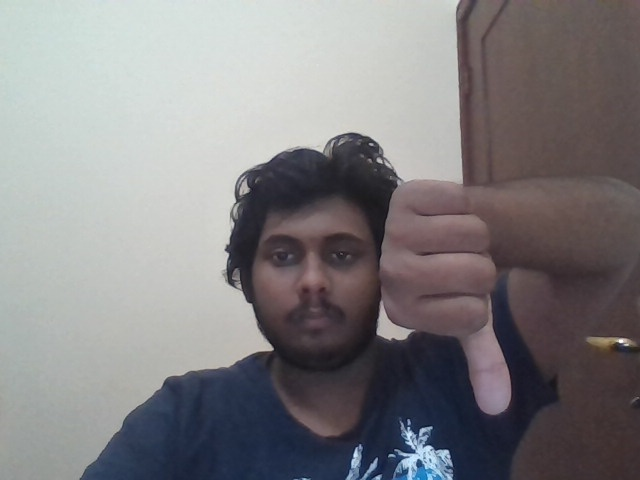thumbsdown: (379, 181, 512, 415)
